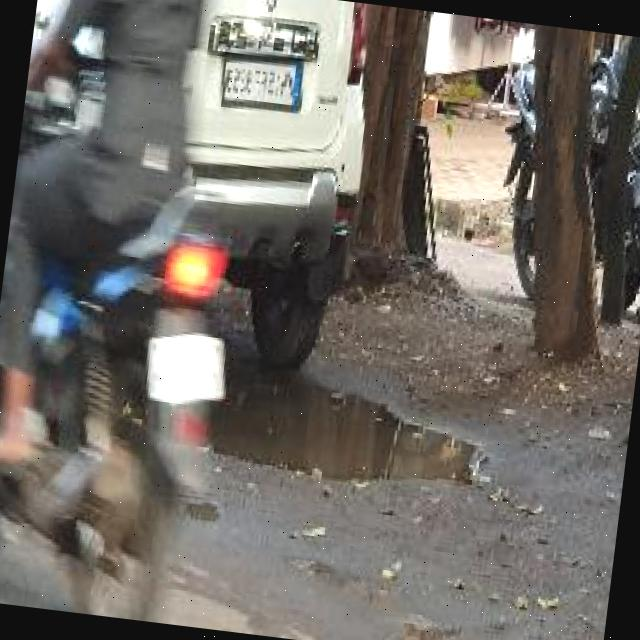waterlogging: (260, 386, 502, 519)
